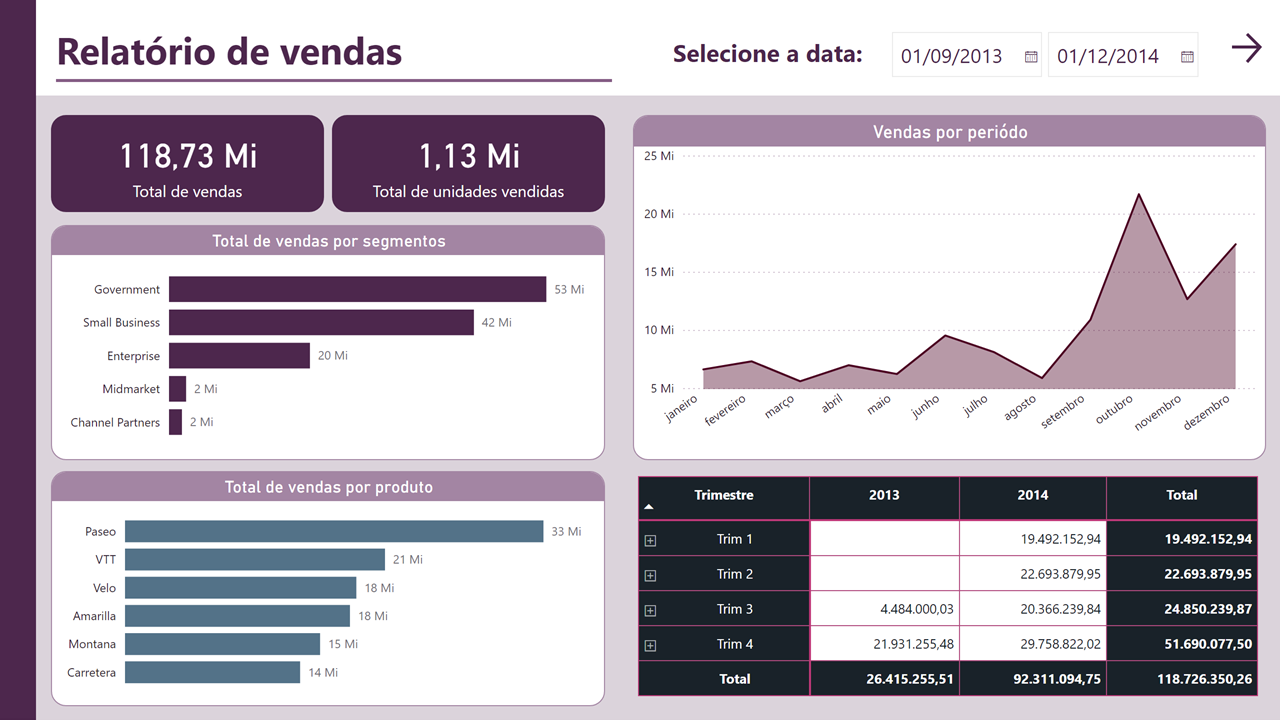

What the dashboard file says about the page in this screenshot:
{"tool":"powerbi","page":{"name":"Sales","canvas":[1280,720],"ordinal":0},"visuals":[{"type":"slicer","fields":{"Values":["financials.Date"]},"box":[878.9,22.2,327.8,65.6],"z":0,"group":"g3"},{"type":"shape","box":[36,95,1244,625],"z":0},{"type":"shape","box":[0,0,1280,95.6],"z":1000},{"type":"textbox","title":"Selecione a data:","box":[667.8,36.6,211.1,36.7],"z":1000,"group":"g3"},{"type":"card","fields":{"Values":["Sum(financials. Sales)"]},"box":[51,115,273,97],"z":2000,"group":"g1"},{"type":"card","fields":{"Values":["Sum(financials.Units Sold)"]},"box":[332,115,273,97],"z":2000,"group":"g2"},{"type":"clusteredBarChart","title":"Total de vendas por segmentos","fields":{"Category":["financials.Segment"],"Y":["Sum(financials. Sales)"]},"box":[51,225,554,235],"z":2000},{"type":"clusteredBarChart","title":"Total de vendas por produto","fields":{"Y":["Sum(financials. Sales)"],"Category":["financials.Product"]},"box":[51,471,554,235],"z":3000},{"type":"areaChart","title":"Vendas por periódo","fields":{"Y":["Sum(financials. Sales)"],"Category":["financials.Date.Variation.Hierarquia de datas.Mês"]},"box":[633,115,633,345],"z":4000},{"type":"shape","box":[0,0,36,720],"z":5000},{"type":"textbox","title":"Relatório de vendas","box":[51,24,566,63],"z":6000},{"type":"actionButton","box":[1206.7,27.8,58.9,40],"z":7000},{"type":"group","id":"g1","title":"Grupo 1","box":[51,115,273,97],"z":8000},{"type":"group","id":"g2","title":"Grupo 1","box":[332,115,273,97],"z":9000},{"type":"pivotTable","fields":{"Rows":["financials.Date.Variation.Hierarquia de datas.Trimestre","financials.Date.Variation.Hierarquia de datas.Mês"],"Columns":["financials.Date.Variation.Hierarquia de datas.Ano"],"Values":["Sum(financials. Sales)"]},"box":[633,471,633,235],"z":10000},{"type":"group","id":"g3","title":"Grupo 1","box":[667.8,22.2,538.9,65.6],"z":11000}]}

Visuals, with their boxes in screenshot pixels (x1, y1, x2, y2), scaled from the page's 1280x720 canvas onto the 1280x720 screenshot:
slicer - financials.Date: 879/22/1207/88
shape: 36/95/1279/719
shape: 0/0/1279/96
"Selecione a data:" textbox: 668/37/879/73
card - Sum(financials. Sales): 51/115/324/212
card - Sum(financials.Units Sold): 332/115/605/212
"Total de vendas por segmentos" clusteredBarChart: 51/225/605/460
"Total de vendas por produto" clusteredBarChart: 51/471/605/706
"Vendas por periódo" areaChart: 633/115/1266/460
shape: 0/0/36/719
"Relatório de vendas" textbox: 51/24/617/87
actionButton: 1207/28/1266/68
"Grupo 1" group: 51/115/324/212
"Grupo 1" group: 332/115/605/212
pivotTable - financials.Date.Variation.Hierarquia de datas.Trimestre x financials.Date.Variation.Hierarquia de datas.Mês: 633/471/1266/706
"Grupo 1" group: 668/22/1207/88
